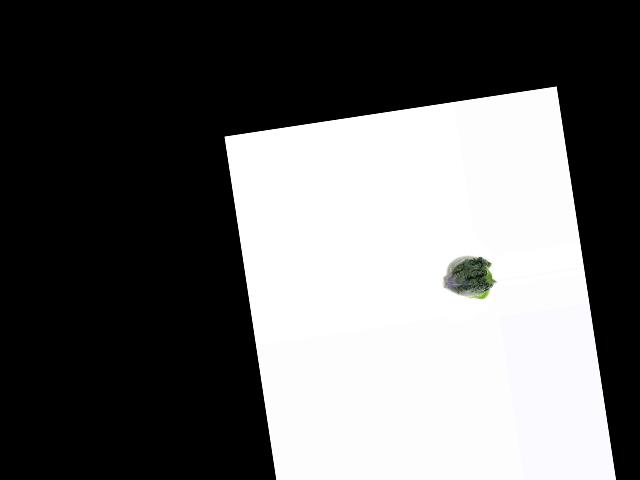lettuce: (439, 250, 497, 306)
